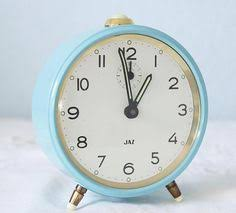alarm_clock: (29, 14, 214, 208), (29, 14, 207, 208), (29, 25, 214, 208), (34, 25, 214, 208)
